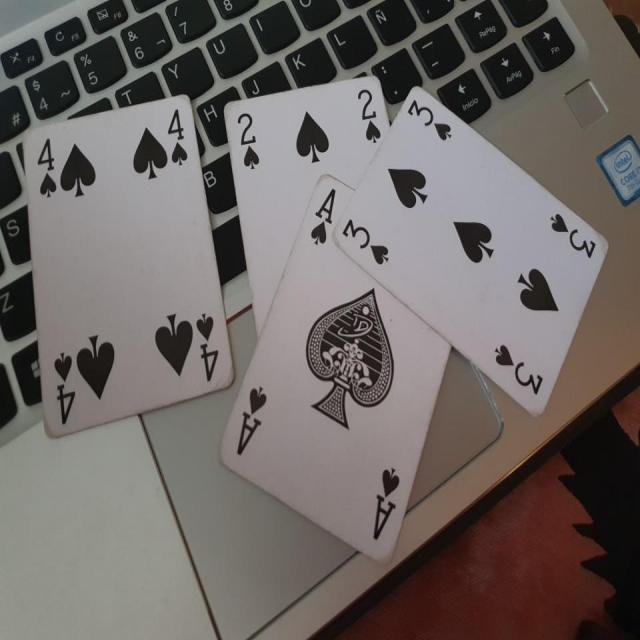2 Spades: (214, 66, 388, 311)
3 Spades: (344, 85, 621, 423)
4 Spades: (14, 78, 238, 447)
A Spades: (221, 180, 428, 568)
